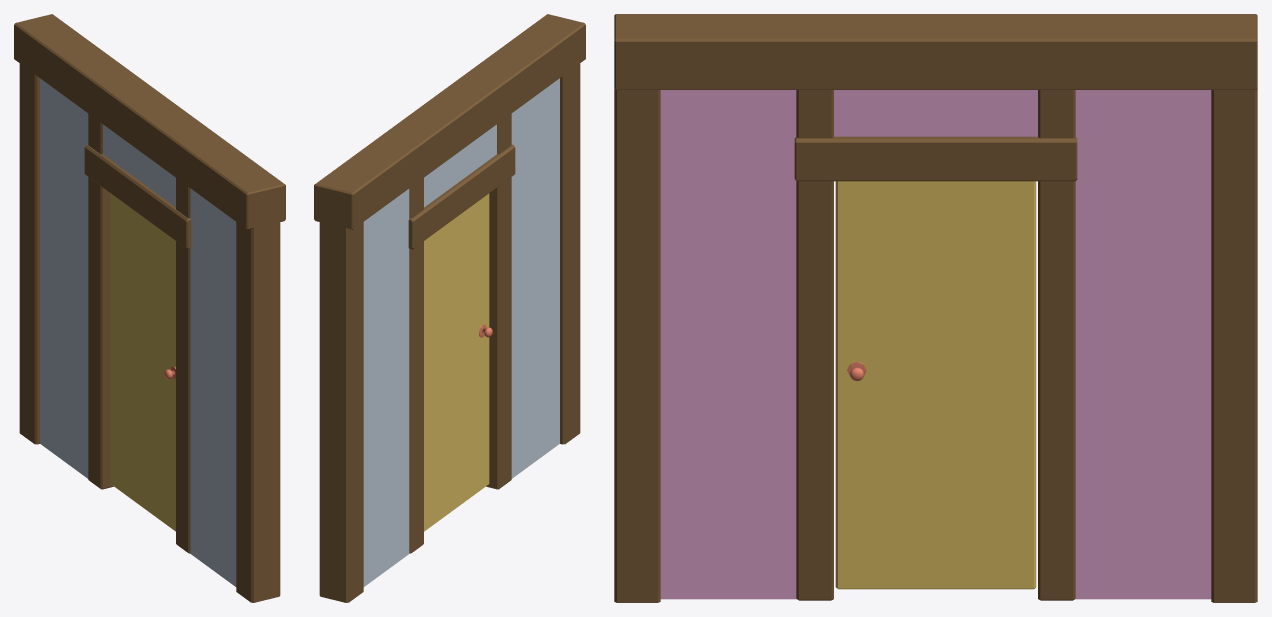
The model's file is Wall_Door02.fbx.
3 renders of one model, left to right at view 1: azimuth 30°, elevation 25°; view 2: azimuth 150°, elevation 25°; view 3: azimuth 270°, elevation 25°, orthographic. The views are drawn at different scales.
Parts seen in each view (by area): view 1: Cube.040, Cube.062, Cube.044, Cube.041, Cube.042, Cube.050, Cube.051, Cube.052; view 2: Cube.040, Cube.062, Cube.044, Cube.042, Cube.041, Cube.051, Cube.050, Cube.052; view 3: Cube.040, Cube.062, Cube.044, Cube.041, Cube.042, Cube.050, Cube.051, Cube.052.
Boxes of the visible parts, x1,y1,x2,y2 form: Cube.040: [40, 78, 236, 586]; Cube.062: [110, 193, 175, 531]; Cube.044: [14, 14, 285, 229]; Cube.041: [236, 204, 280, 602]; Cube.042: [19, 63, 39, 444]; Cube.050: [88, 114, 113, 489]; Cube.051: [176, 178, 190, 553]; Cube.052: [84, 144, 191, 249]; Cube.040: [363, 78, 559, 586]; Cube.062: [424, 193, 492, 531]; Cube.044: [314, 14, 585, 229]; Cube.042: [319, 204, 363, 602]; Cube.041: [560, 63, 580, 444]; Cube.051: [486, 114, 511, 489]; Cube.050: [409, 178, 423, 553]; Cube.052: [408, 144, 515, 249]; Cube.040: [660, 90, 1211, 599]; Cube.062: [835, 181, 1036, 589]; Cube.044: [614, 14, 1257, 89]; Cube.041: [614, 89, 660, 602]; Cube.042: [1211, 89, 1257, 602]; Cube.050: [1038, 90, 1075, 600]; Cube.051: [796, 90, 833, 600]; Cube.052: [794, 136, 1077, 181].
Size of the model in its own units: 21.15 by 209 by 216.
